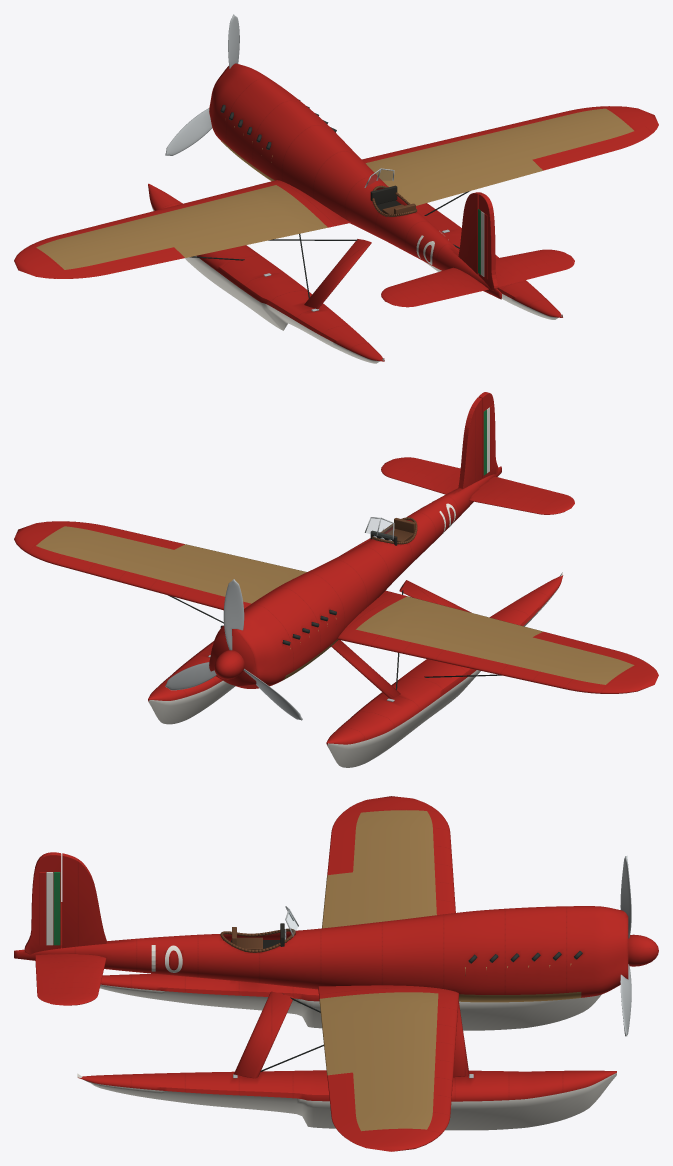
3 renders of one model, top to bottom at view 1: azimuth 30°, elevation 25°; view 2: azimuth 150°, elevation 25°; view 3: azimuth 270°, elevation 25°, orthographic. The views are drawn at different scales.
Visible parts, largest first — view 1: AircraftBody, Port hard-chine stepped float, Starboard hard-chine stepped float, Fitted trailing-edge aileron, Fitted trailing-edge aileron.001, Fitted tailplane elevator, Twisted propeller blade.002, Curved hinged rudder, Twisted propeller blade; view 2: AircraftBody, Port hard-chine stepped float, Starboard hard-chine stepped float, Twisted propeller blade, Fitted trailing-edge aileron, Fitted trailing-edge aileron.001, Twisted propeller blade.001, Fitted tailplane elevator, Spinner, Curved hinged rudder, Twisted propeller blade.002; view 3: AircraftBody, Starboard hard-chine stepped float, Port hard-chine stepped float, Fitted trailing-edge aileron.001, Curved hinged rudder, Fitted trailing-edge aileron, Spinner, Fitted tailplane elevator, Rudder national stripe.004, Rudder national stripe.003, Twisted propeller blade, Twisted propeller blade.001 (+1 smaller).
Boxes of the visible parts, left/top/right/bottom form: AircraftBody: left=14, top=63, right=658, bottom=311; Port hard-chine stepped float: left=148, top=183, right=384, bottom=363; Starboard hard-chine stepped float: left=416, top=203, right=562, bottom=319; Fitted trailing-edge aileron: left=49, top=247, right=184, bottom=278; Fitted trailing-edge aileron.001: left=532, top=126, right=652, bottom=170; Fitted tailplane elevator: left=394, top=260, right=574, bottom=307; Twisted propeller blade.002: left=165, top=108, right=212, bottom=155; Curved hinged rudder: left=478, top=193, right=498, bottom=290; Twisted propeller blade: left=228, top=14, right=239, bottom=68; AircraftBody: left=14, top=397, right=658, bottom=701; Port hard-chine stepped float: left=326, top=572, right=563, bottom=767; Starboard hard-chine stepped float: left=148, top=528, right=384, bottom=724; Twisted propeller blade: left=223, top=579, right=244, bottom=650; Fitted trailing-edge aileron: left=533, top=631, right=652, bottom=670; Fitted trailing-edge aileron.001: left=50, top=521, right=184, bottom=549; Twisted propeller blade.001: left=165, top=662, right=216, bottom=690; Fitted tailplane elevator: left=395, top=457, right=574, bottom=503; Spinner: left=214, top=650, right=244, bottom=679; Curved hinged rudder: left=478, top=392, right=498, bottom=478; Twisted propeller blade.002: left=243, top=669, right=302, bottom=720; AircraftBody: left=14, top=796, right=628, bottom=1151; Starboard hard-chine stepped float: left=77, top=1070, right=616, bottom=1130; Port hard-chine stepped float: left=100, top=973, right=601, bottom=1030; Fitted trailing-edge aileron.001: left=327, top=1072, right=366, bottom=1140; Curved hinged rudder: left=24, top=852, right=61, bottom=954; Fitted trailing-edge aileron: left=327, top=805, right=365, bottom=875; Spinner: left=628, top=934, right=658, bottom=966; Fitted tailplane elevator: left=35, top=954, right=55, bottom=1003; Rudder national stripe.004: left=46, top=872, right=53, bottom=945; Rudder national stripe.003: left=53, top=872, right=60, bottom=945; Twisted propeller blade: left=620, top=856, right=631, bottom=938; Twisted propeller blade.001: left=620, top=964, right=631, bottom=1036.
Bounding box in the file's own units: 9.98 × 2.97 × 7.65.
9 materials, 1 textured.
